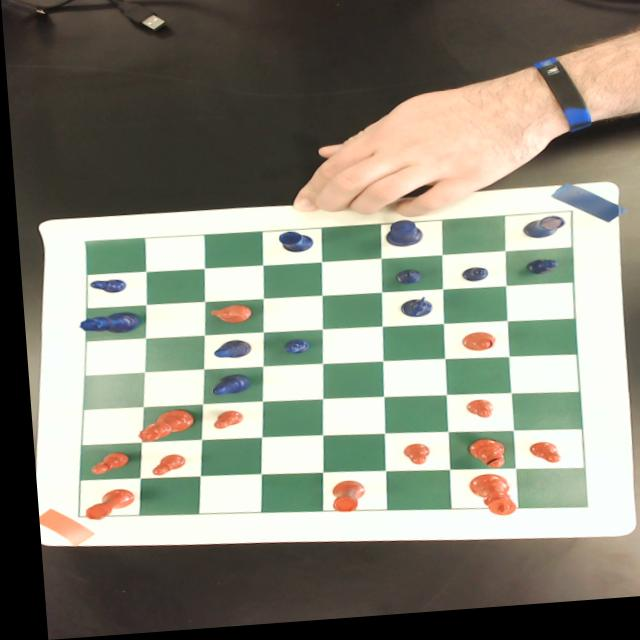B: (204, 377, 245, 399), (206, 342, 247, 363)
K: (379, 225, 419, 253)
N: (391, 302, 429, 325)
P: (85, 279, 121, 296), (521, 267, 555, 284), (455, 273, 484, 290), (389, 275, 418, 291), (276, 343, 303, 359)
Q: (72, 313, 135, 337)
R: (516, 224, 562, 247), (273, 234, 309, 258)
b: (458, 445, 498, 477), (455, 339, 488, 359)
k: (460, 479, 508, 525)
n: (204, 308, 246, 328)
p: (82, 452, 123, 477), (142, 455, 178, 479), (519, 449, 554, 473), (456, 405, 489, 427), (393, 448, 422, 472), (204, 413, 236, 433)
q: (128, 411, 188, 444)
r: (73, 489, 127, 521), (321, 485, 357, 517)
